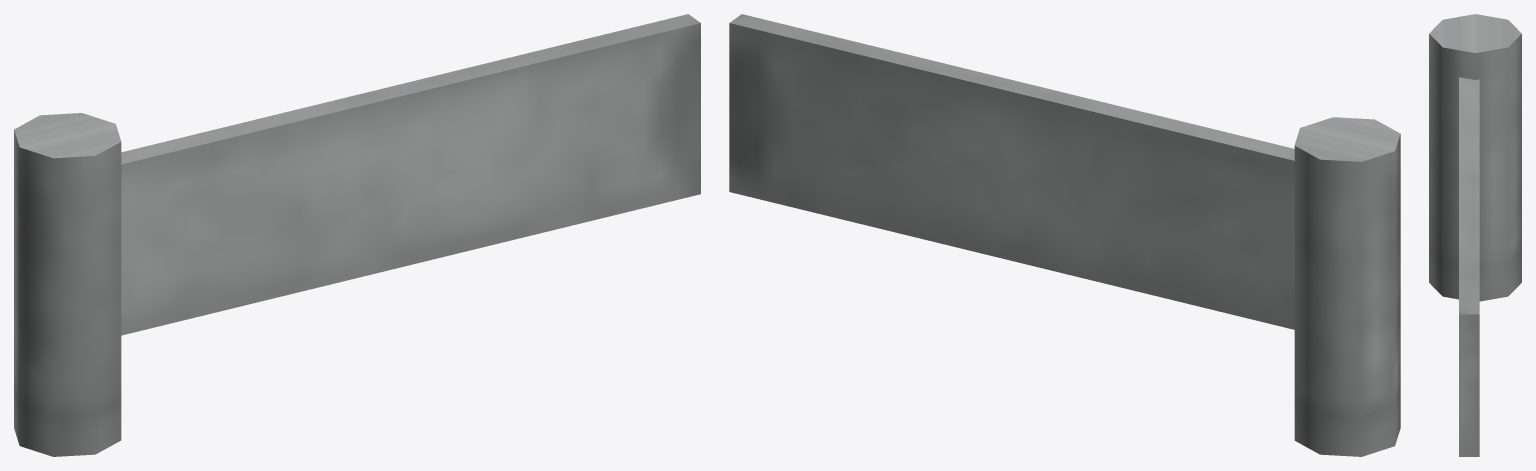
Rendered from TgtTargetStandAArmA1.fbx.
The picture shows the model from 3 angles, left to right: view 1: azimuth 30°, elevation 25°; view 2: azimuth 150°, elevation 25°; view 3: azimuth 270°, elevation 25°; orthographic projection. The views are drawn at different scales.
Parts seen in each view (by area): view 1: TgtTargetStandAArmA1; view 2: TgtTargetStandAArmA1; view 3: TgtTargetStandAArmA1.
Part boxes in pixels (x1=…): TgtTargetStandAArmA1: x1=14, y1=14, x2=700, y2=456; TgtTargetStandAArmA1: x1=729, y1=14, x2=1400, y2=456; TgtTargetStandAArmA1: x1=1429, y1=14, x2=1521, y2=456.
Size of the model in its own units: 11.65 by 4.96 by 1.67.
Materials: 1 (1 with a texture image).
